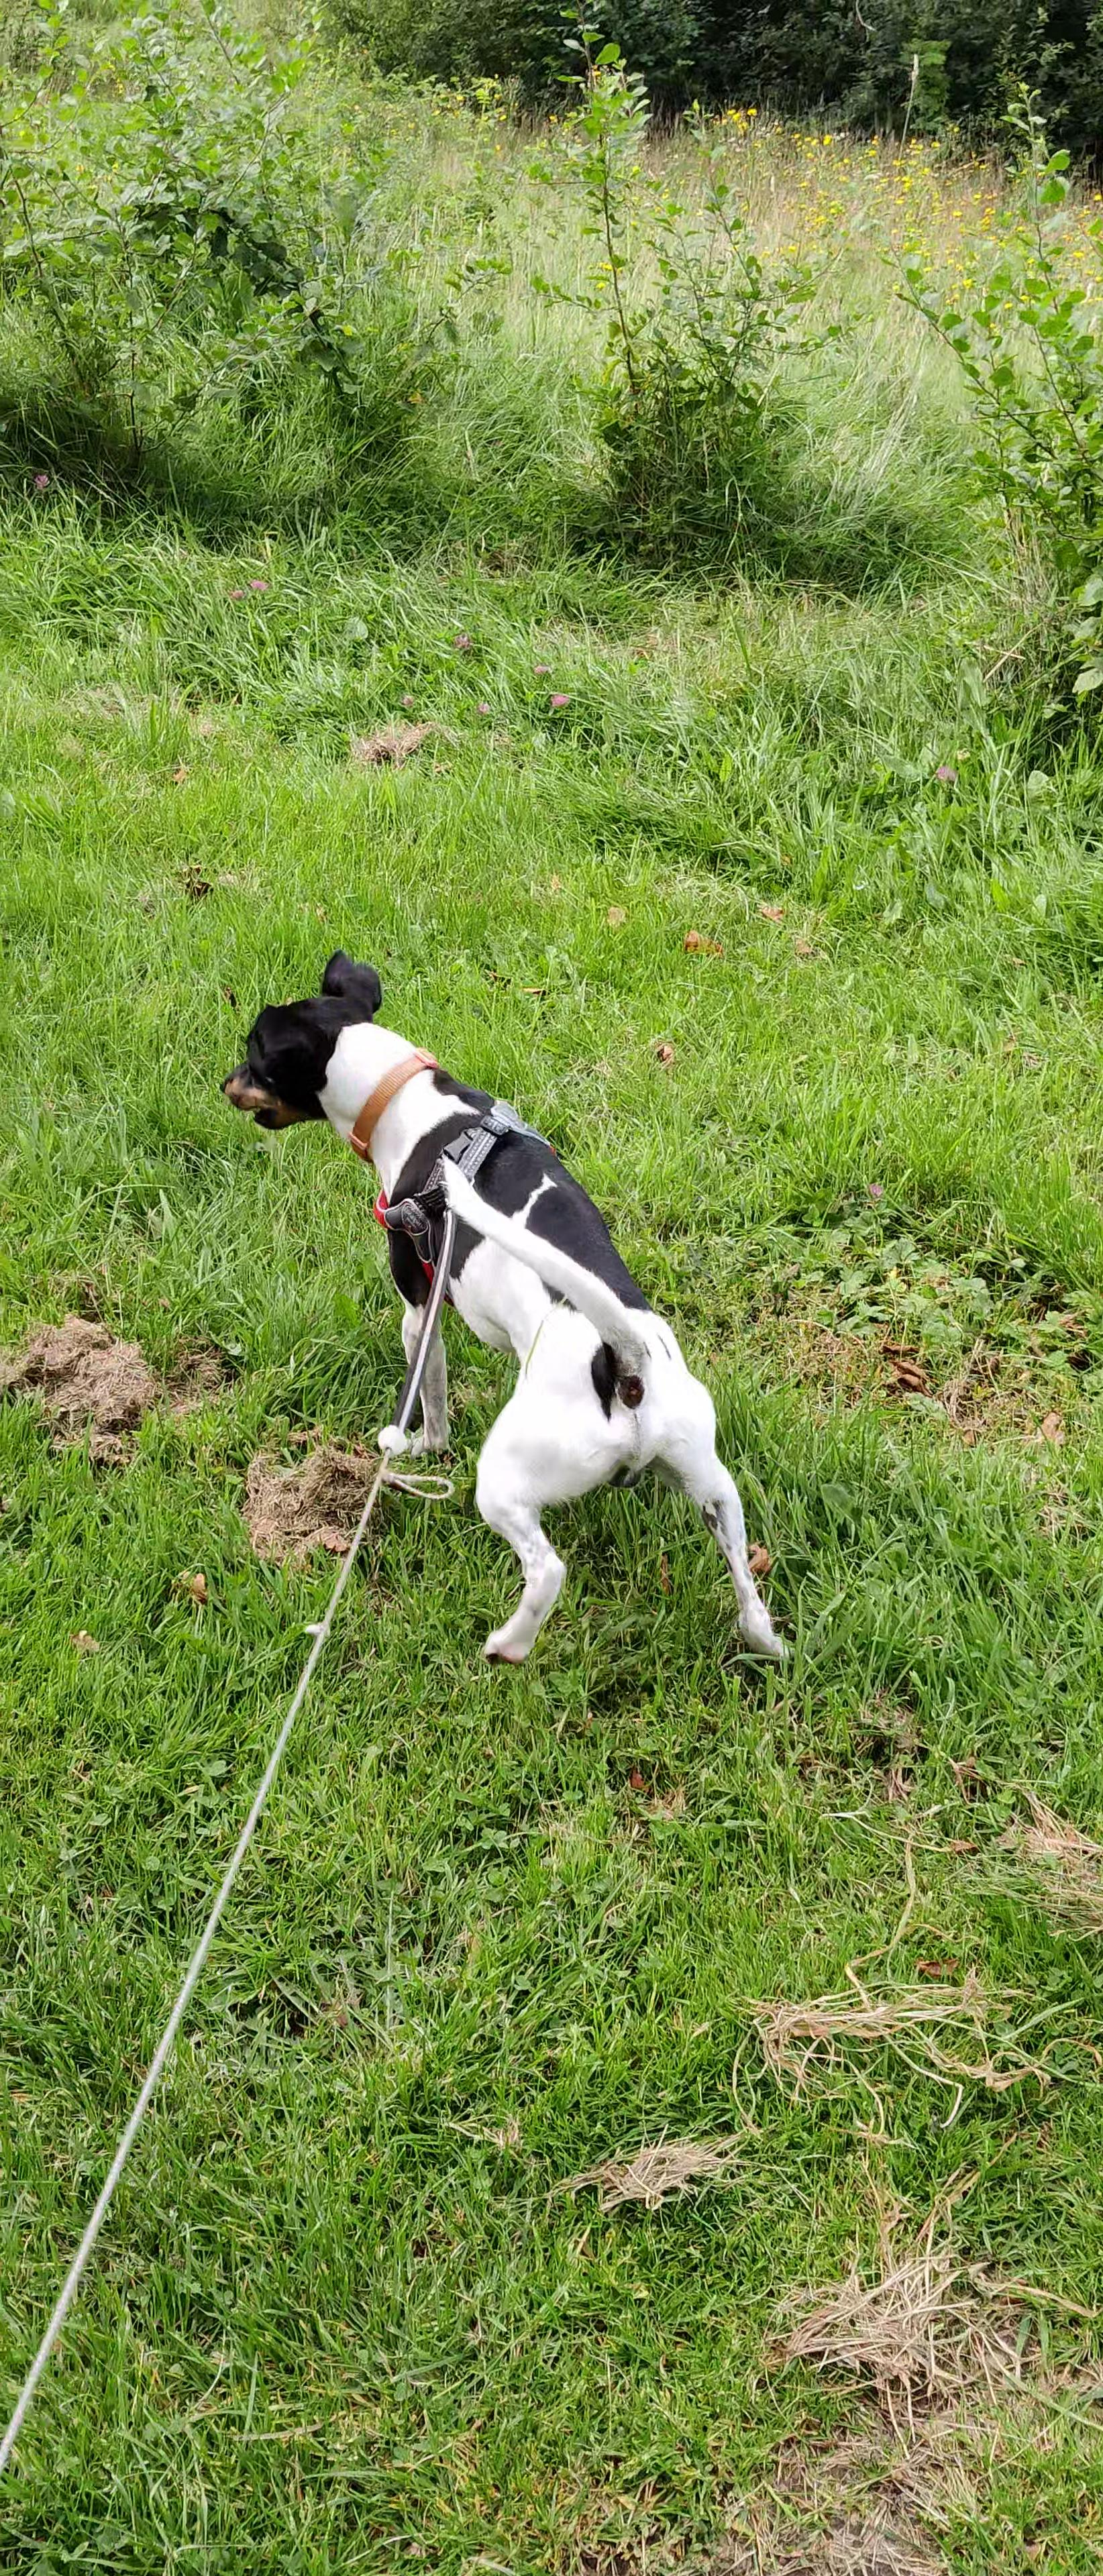Dog: (207, 940, 814, 1679)
